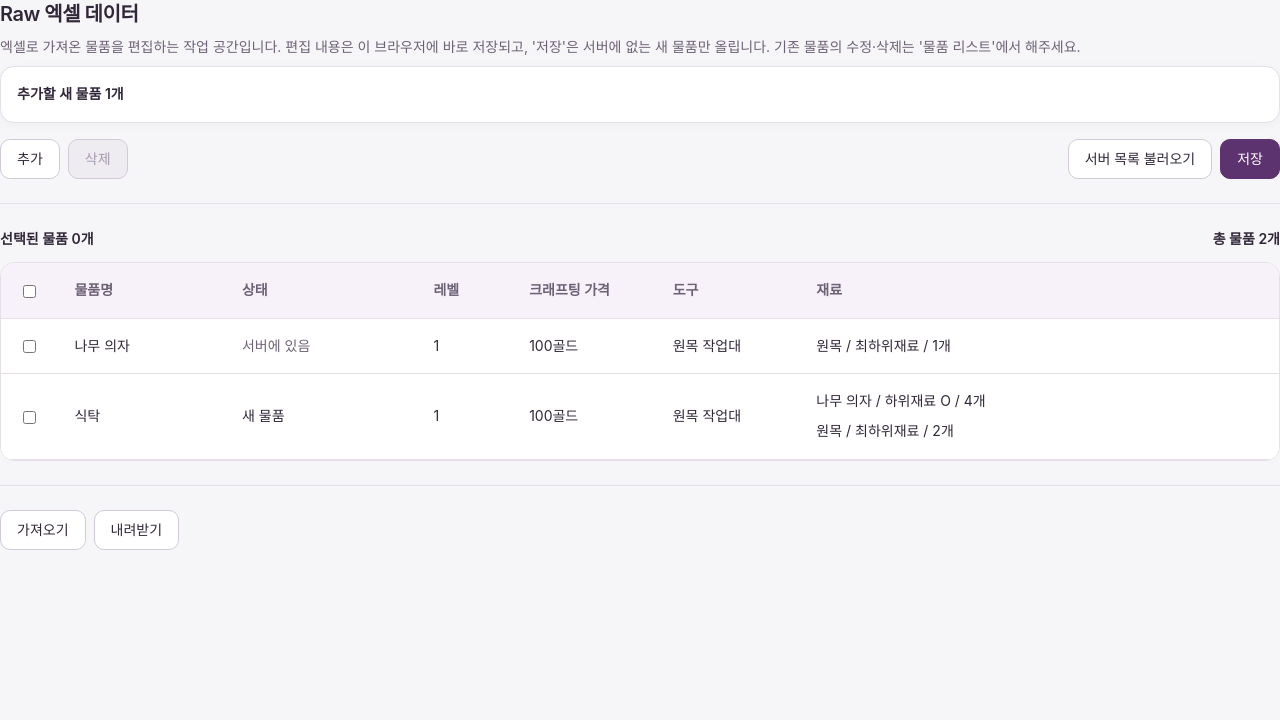
Scenario: ManageHomePage › 서버에 없는 새 물품만 id 없이 올리고, 올린 이름을 기억한다
Expected: the text "서버에 있음" is shown, [242,337,310,354]
Expected: the text "새 물품" is shown, [242,407,285,424]
What coordinates should you click on to do the following:
click the button "저장"
I would click on:
 (1250, 159)
Its box is [1220,139,1279,179].
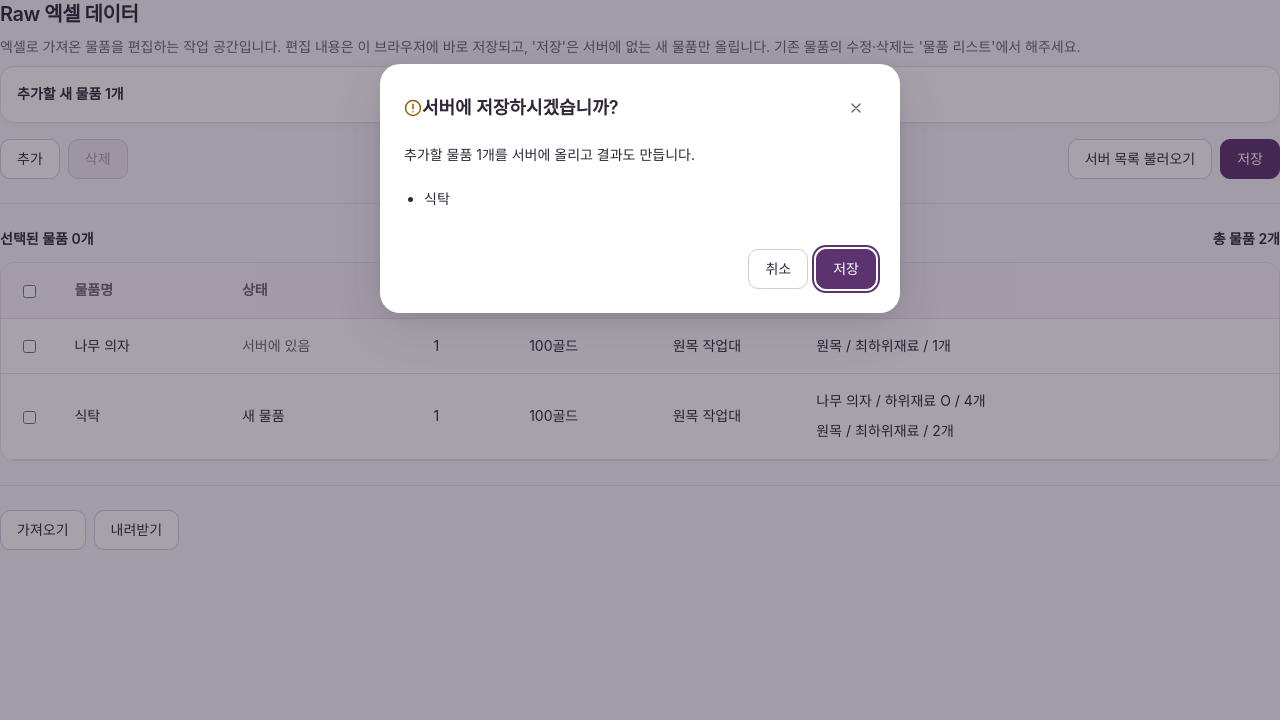
Expected: the dialog "서버에 저장하시겠습니까?" shows "추가할 물품 1개를 서버에 올리고 결과도 만듭니다.", [380,64,900,313]
What coordinates should you click on to do the following:
click the button "저장"
I would click on:
 (846, 269)
Its box is [816,249,876,289].
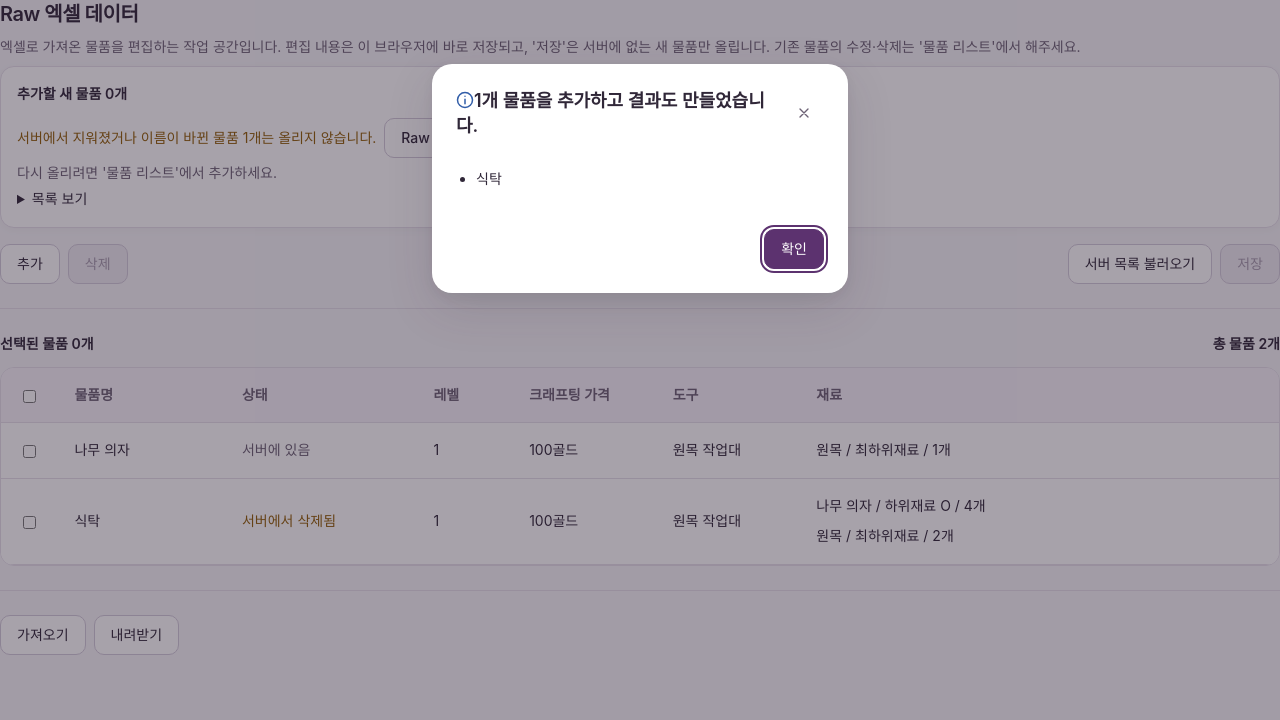
Expected: the dialog "1개 물품을 추가하고 결과도 만들었습니다." is shown, [432,64,848,293]
